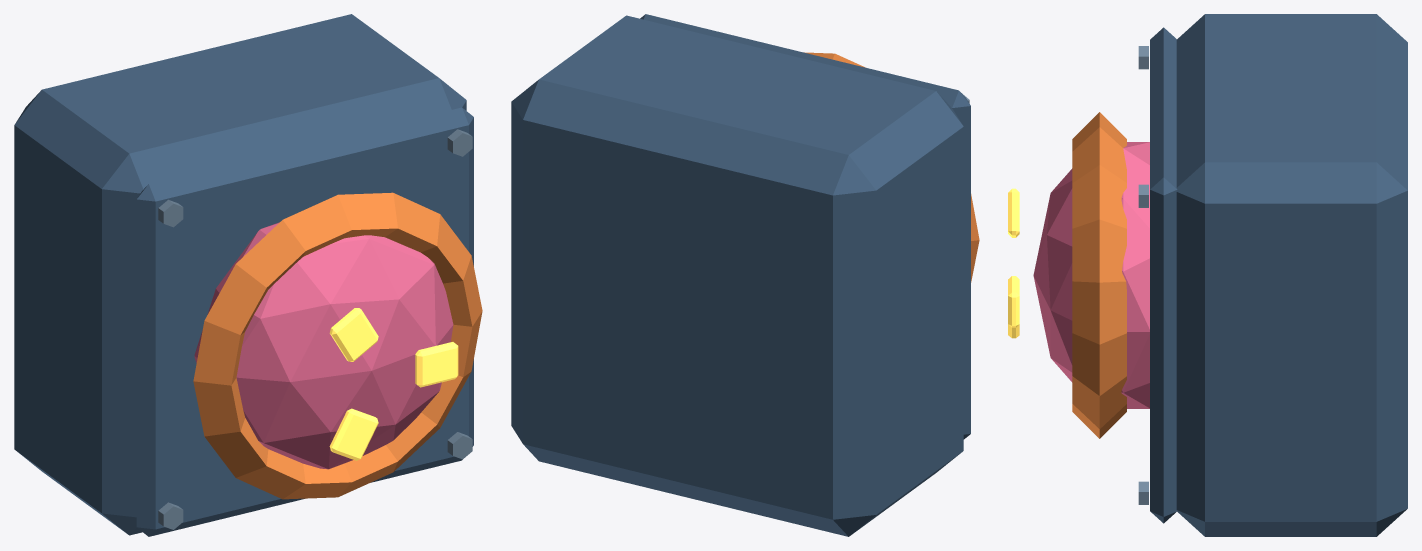
The model's file is explosive_core.glb.
3 renders of one model, left to right at view 1: azimuth 30°, elevation 25°; view 2: azimuth 150°, elevation 25°; view 3: azimuth 270°, elevation 25°, orthographic.
Visible parts, largest first — view 1: Structural core.004, Front armor.004, Volatile core, Containment, Blast warning, Blast warning.002, Blast warning.001; view 2: Structural core.004, Front armor.004, Containment; view 3: Structural core.004, Containment, Front armor.004, Volatile core, Blast warning, Blast warning.001.
Boxes of the visible parts, <box> form: Structural core.004: <box>14,14,466,535</box>; Front armor.004: <box>136,107,473,536</box>; Volatile core: <box>194,222,453,469</box>; Containment: <box>193,192,482,499</box>; Blast warning: <box>415,342,458,387</box>; Blast warning.002: <box>329,408,378,460</box>; Blast warning.001: <box>329,308,378,361</box>; Structural core.004: <box>511,15,963,536</box>; Front armor.004: <box>640,14,970,439</box>; Containment: <box>804,52,979,282</box>; Structural core.004: <box>1176,14,1407,536</box>; Containment: <box>1072,112,1126,438</box>; Front armor.004: <box>1150,27,1177,523</box>; Volatile core: <box>1033,142,1149,408</box>; Blast warning: <box>1008,276,1019,327</box>; Blast warning.001: <box>1008,188,1019,237</box>.
Size of the model in its own units: 1.06 by 1.06 by 1.02.
